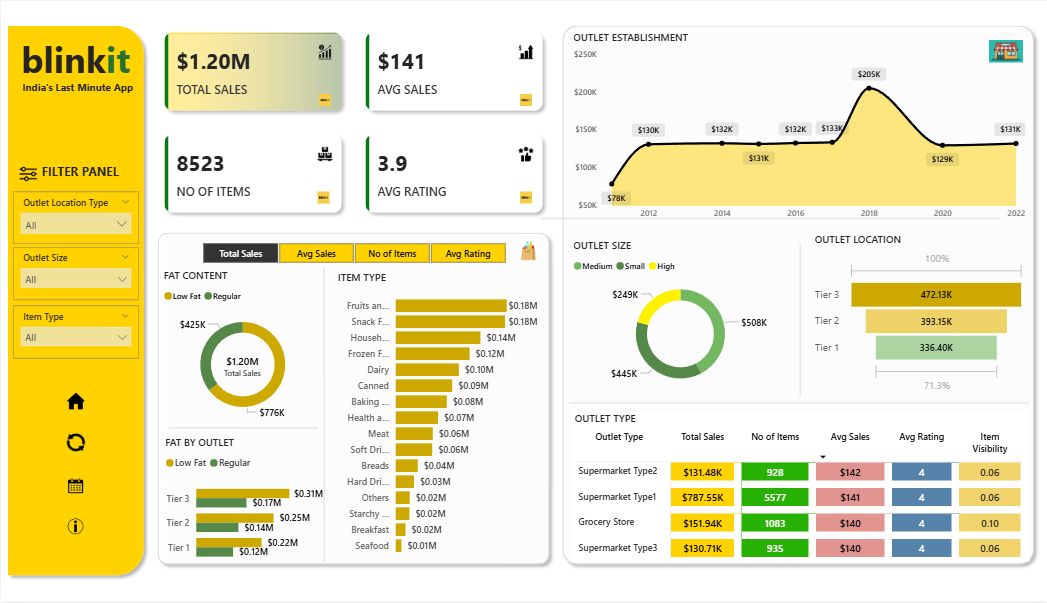

Layout of this report page (visuals, bound fields, positions):
{"tool":"powerbi","page":{"name":"Page 1","canvas":[1400,800],"ordinal":0},"visuals":[{"type":"shape","box":[0,23.5,199.4,750.8],"z":0},{"type":"textbox","box":[22.2,38.9,156.9,77.8],"z":1000},{"type":"textbox","box":[9.7,100,184.7,31.9],"z":2000},{"type":"cardVisual","fields":{"Data":["BlinkIT Grocery Data.Total Sales","BlinkIT Grocery Data.Avg Sales","BlinkIT Grocery Data.No of Items","BlinkIT Grocery Data.Avg Rating"]},"box":[200,24,540,276],"z":3000},{"type":"image","box":[412,58,40,20],"z":4000},{"type":"image","box":[690,58,20,20],"z":5000},{"type":"image","box":[422,186,20,36],"z":6000},{"type":"image","box":[690,186,20,36],"z":7000},{"type":"shape","box":[200,300,540,460],"z":8000},{"type":"donutChart","title":"FAT CONTENT","fields":{"Y":["BlinkIT Grocery Data.Total Sales"],"Category":["BlinkIT Grocery Data.Item Fat Content"]},"box":[212,356,220,212],"z":9000},{"type":"slicer","fields":{"Values":["Matrix.Matrix"]},"box":[243.9,316.4,452.4,38.9],"z":10000},{"type":"cardVisual","fields":{"Data":["BlinkIT Grocery Data.Total Sales"]},"box":[258,442,128,88],"z":11000},{"type":"clusteredBarChart","title":"FAT BY OUTLET","fields":{"Y":["BlinkIT Grocery Data.Total Sales"],"Category":["BlinkIT Grocery Data.Outlet Location Type"],"Series":["BlinkIT Grocery Data.Item Fat Content"]},"box":[214,578,220,182],"z":12000},{"type":"shape","box":[224,560,198,18],"z":13000},{"type":"shape","box":[418,356,26,392],"z":14000},{"type":"barChart","title":"ITEM TYPE","fields":{"Y":["BlinkIT Grocery Data.Total Sales"],"Category":["BlinkIT Grocery Data.Item Type"]},"box":[444,358,276,390],"z":15000},{"type":"shape","box":[740,24,646,736],"z":16000},{"type":"lineChart","title":"OUTLET ESTABLISHMENT","fields":{"Y":["BlinkIT Grocery Data.Total Sales"],"Category":["BlinkIT Grocery Data.Outlet Establishment Year"]},"box":[758,38,612,262],"z":17000},{"type":"donutChart","title":"OUTLET SIZE","fields":{"Y":["BlinkIT Grocery Data.Total Sales"],"Category":["BlinkIT Grocery Data.Outlet Size"]},"box":[758.2,316.4,295.1,210.3],"z":18000},{"type":"shape","box":[1055.1,323.4,19.4,203.2],"z":19000},{"type":"funnel","title":"OUTLET LOCATION","fields":{"Y":["Sum(BlinkIT Grocery Data.Sales)"],"Category":["BlinkIT Grocery Data.Outlet Location Type"]},"box":[1079.8,307.5,289.8,219.2],"z":20000},{"type":"shape","box":[720,280,611.7,20],"z":21000},{"type":"shape","box":[758.2,526.7,613.3,19.4],"z":22000},{"type":"pivotTable","title":"OUTLET TYPE","fields":{"Rows":["BlinkIT Grocery Data.Outlet Type"],"Values":["BlinkIT Grocery Data.Total Sales","BlinkIT Grocery Data.No of Items","BlinkIT Grocery Data.Avg Sales","BlinkIT Grocery Data.Avg Rating","Avg(BlinkIT Grocery Data.Item Visibility)"]},"box":[760,546.1,611.5,201.5],"z":23000},{"type":"slicer","fields":{"Values":["BlinkIT Grocery Data.Outlet Location Type"]},"box":[16,254,168,70],"z":24000},{"type":"slicer","fields":{"Values":["BlinkIT Grocery Data.Outlet Size"]},"box":[15.9,328.7,167.9,70.7],"z":25000},{"type":"slicer","fields":{"Values":["BlinkIT Grocery Data.Item Type"]},"box":[15.9,406.5,167.9,70.7],"z":26000},{"type":"textbox","box":[28.3,210.3,155.5,38.9],"z":27000},{"type":"image","box":[424.2,123.7,15.9,15.9],"z":28000},{"type":"image","box":[691,123.7,15.9,15.9],"z":29000},{"type":"image","box":[422.4,254.5,15.9,15.9],"z":30000},{"type":"image","box":[691,254.5,15.9,15.9],"z":31000},{"type":"image","box":[1309.6,51.3,60.1,30],"z":32000},{"type":"image","box":[689.3,307.5,26.5,47.7],"z":33000},{"type":"image","box":[15.9,219.2,40.6,21.2],"z":34000},{"type":"image","box":[67.2,569.1,63.6,38.9],"z":35000},{"type":"image","box":[67.2,514.3,63.6,38.9],"z":36000},{"type":"image","box":[67.2,682.2,63.6,38.9],"z":37000},{"type":"image","box":[67.2,627.4,63.6,38.9],"z":38000}]}

Visuals, with their boxes in screenshot pixels (x1, y1, x2, y2), scaled from the page's 1400x800 canvas onto the 1047x603 screenshot:
shape: box(0, 18, 149, 584)
textbox: box(17, 29, 134, 88)
textbox: box(7, 75, 145, 99)
cardVisual - BlinkIT Grocery Data.Total Sales x BlinkIT Grocery Data.Avg Sales: box(150, 18, 553, 226)
image: box(308, 44, 338, 59)
image: box(516, 44, 531, 59)
image: box(316, 140, 331, 167)
image: box(516, 140, 531, 167)
shape: box(150, 226, 553, 573)
"FAT CONTENT" donutChart: box(159, 268, 323, 428)
slicer - Matrix.Matrix: box(182, 238, 521, 268)
cardVisual - BlinkIT Grocery Data.Total Sales: box(193, 333, 289, 399)
"FAT BY OUTLET" clusteredBarChart: box(160, 436, 325, 573)
shape: box(168, 422, 316, 436)
shape: box(313, 268, 332, 564)
"ITEM TYPE" barChart: box(332, 270, 538, 564)
shape: box(553, 18, 1037, 573)
"OUTLET ESTABLISHMENT" lineChart: box(567, 29, 1025, 226)
"OUTLET SIZE" donutChart: box(567, 238, 788, 397)
shape: box(789, 244, 804, 397)
"OUTLET LOCATION" funnel: box(808, 232, 1024, 397)
shape: box(538, 211, 996, 226)
shape: box(567, 397, 1026, 412)
"OUTLET TYPE" pivotTable: box(568, 412, 1026, 564)
slicer - BlinkIT Grocery Data.Outlet Location Type: box(12, 191, 138, 244)
slicer - BlinkIT Grocery Data.Outlet Size: box(12, 248, 137, 301)
slicer - BlinkIT Grocery Data.Item Type: box(12, 306, 137, 360)
textbox: box(21, 159, 137, 188)
image: box(317, 93, 329, 105)
image: box(517, 93, 529, 105)
image: box(316, 192, 328, 204)
image: box(517, 192, 529, 204)
image: box(979, 39, 1024, 61)
image: box(515, 232, 535, 268)
image: box(12, 165, 42, 181)
image: box(50, 429, 98, 458)
image: box(50, 388, 98, 417)
image: box(50, 514, 98, 544)
image: box(50, 473, 98, 502)
